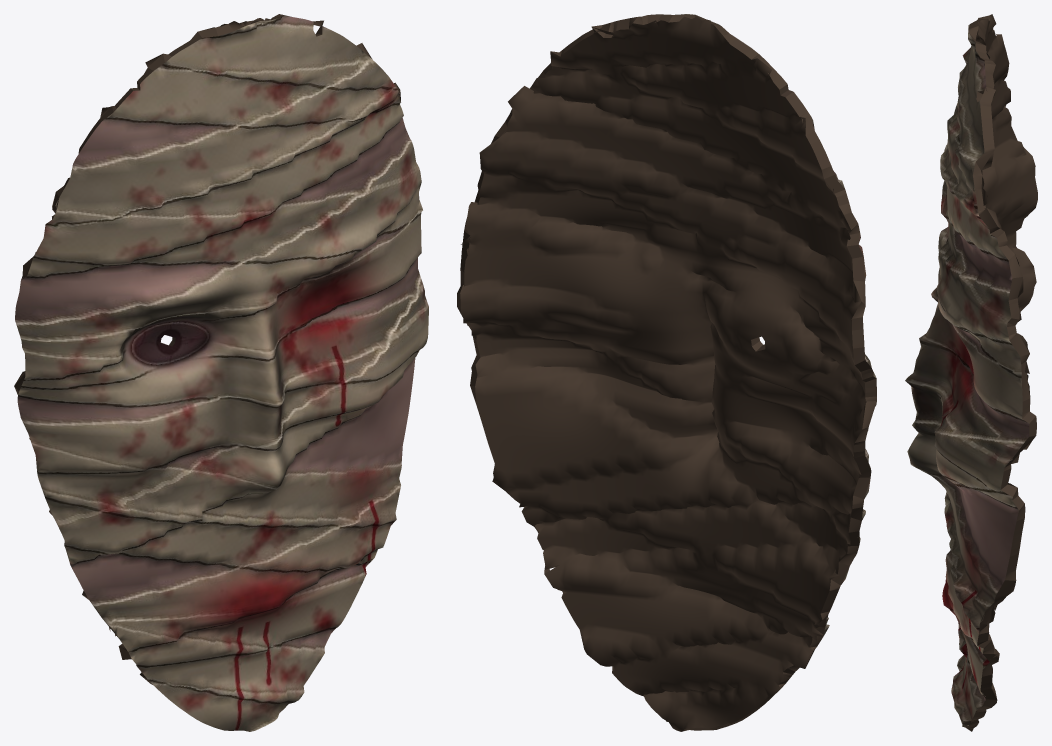
File: 包帯面_houtai.glb
3 views of the same model, side by side, from view 1: azimuth 30°, elevation 25°; view 2: azimuth 150°, elevation 25°; view 3: azimuth 270°, elevation 25° (orthographic). The views are drawn at different scales.
Parts seen in each view (by area): view 1: houtai; view 2: houtai; view 3: houtai.
Boxes of the visible parts, left/top/right/bottom form: houtai: left=14, top=14, right=428, bottom=731; houtai: left=457, top=14, right=876, bottom=731; houtai: left=905, top=14, right=1037, bottom=731.
Bounding box in the file's own units: 0.1796 × 0.3026 × 0.0526.
1 material, 1 textured.
